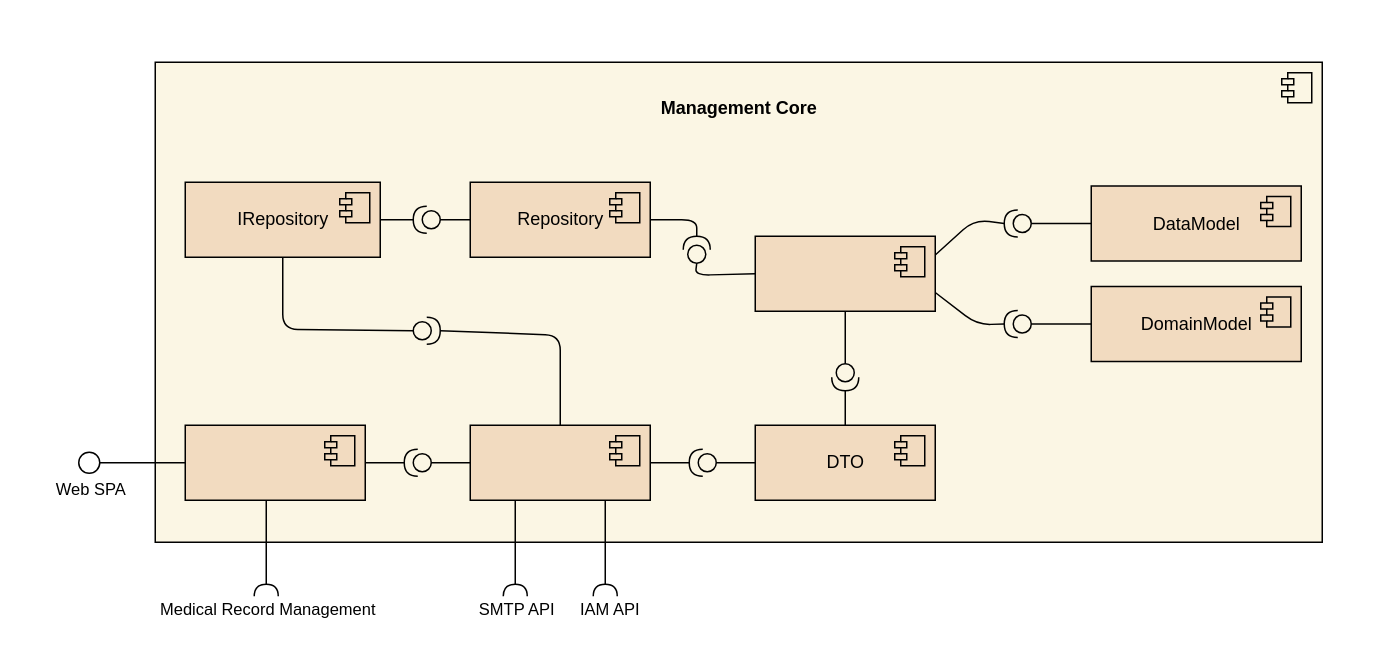
Some shapes in this 1380 by 672 pixel diagram are drawn without their labels. The shapes that lost their labels are listed below. From the top down, each one's box as (x1, y1, x2, y2) in pixels, then its label:
(754, 235, 935, 311): Mapper
(184, 424, 365, 500): Controller
(469, 424, 650, 500): Service
